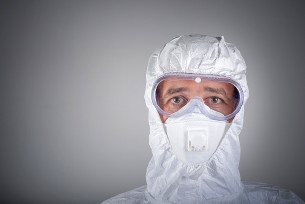Mask: (151, 82, 244, 175)
